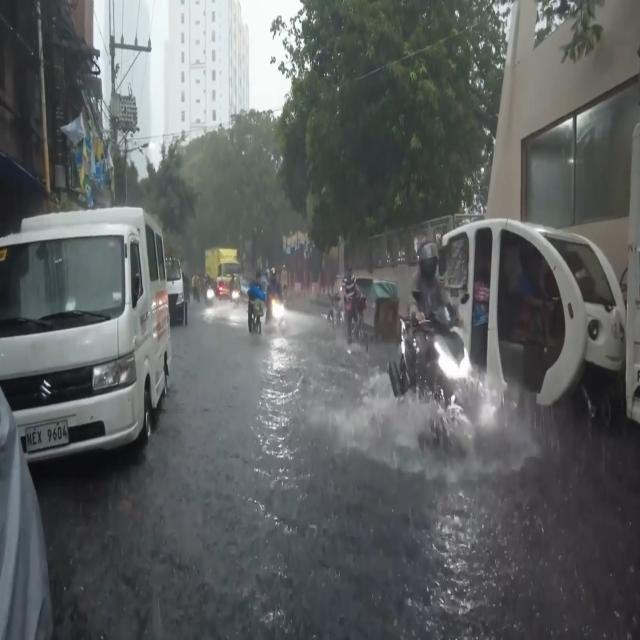half: (418, 239, 438, 280)
